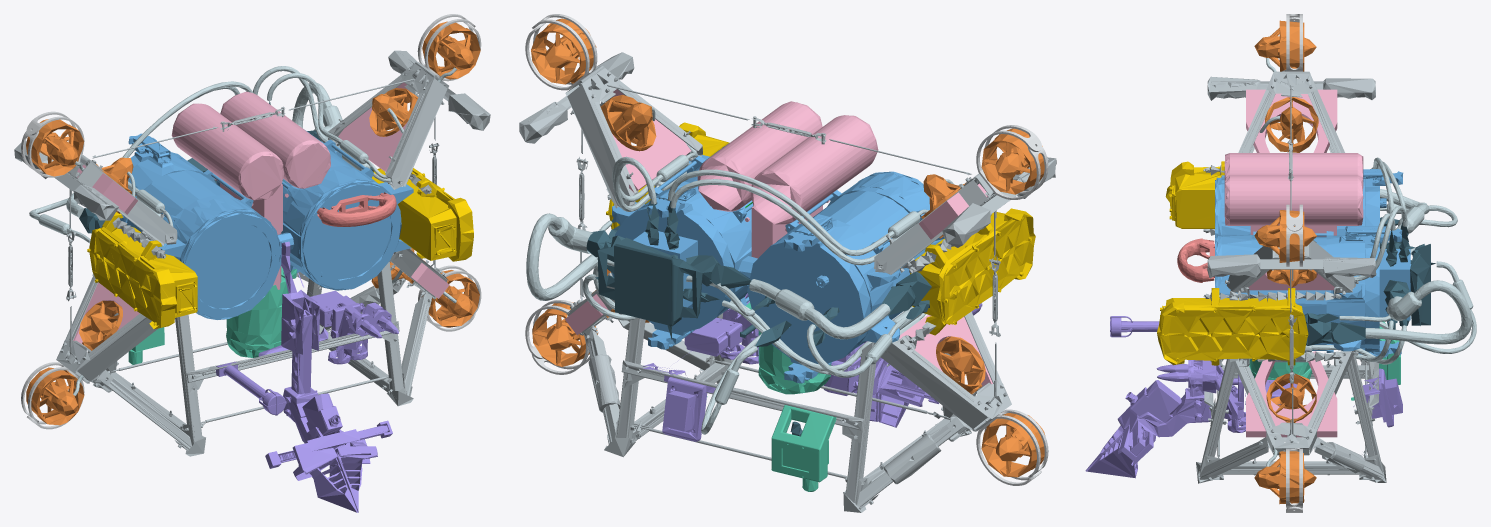
Rendered from talos-cad.glb.
3 views of the same model, side by side, from view 1: azimuth 30°, elevation 25°; view 2: azimuth 150°, elevation 25°; view 3: azimuth 270°, elevation 25° (orthographic). The views are drawn at different scales.
Parts seen in each view (by area): view 1: frame, hull, foam, batteries, claw, cables, launcher, thruster_guards, dvl, thruster T200 Thruster_Taco-3, thruster MirroredT200 Thruster-1, thruster T200 Thruster-1 (+8 smaller); view 2: frame, hull, foam, cables, subconns, batteries, thruster_guards, launcher, acoustics, claw, thruster T200 Thruster-1, thruster T200 Thruster_Taco-3 (+6 smaller); view 3: frame, foam, batteries, hull, cables, claw, subconns, launcher, thruster_guards, thruster MirroredInner T200 Thruster-1, thruster Mirrored_T200 Thruster_Taco-1, thruster MirroredT200 Thruster-1 (+7 smaller).
Boxes of the visible parts, x1,y1,x2,y2 form: frame: [14, 50, 490, 456]; hull: [120, 130, 413, 319]; foam: [73, 82, 449, 344]; batteries: [87, 168, 473, 329]; claw: [258, 241, 392, 512]; cables: [29, 66, 456, 396]; launcher: [298, 273, 398, 364]; thruster_guards: [21, 14, 481, 429]; dvl: [226, 266, 296, 357]; thruster T200 Thruster_Taco-3: [26, 367, 84, 425]; thruster MirroredT200 Thruster-1: [26, 119, 83, 176]; thruster T200 Thruster-1: [422, 21, 480, 79]; frame: [519, 52, 1056, 512]; hull: [612, 143, 944, 383]; foam: [565, 89, 992, 386]; cables: [526, 107, 1005, 434]; subconns: [586, 200, 931, 436]; batteries: [606, 122, 1035, 335]; thruster_guards: [525, 14, 1048, 485]; launcher: [643, 293, 759, 441]; acoustics: [707, 396, 836, 491]; claw: [823, 341, 938, 427]; thruster T200 Thruster-1: [531, 18, 596, 84]; thruster T200 Thruster_Taco-3: [981, 413, 1045, 477]; frame: [1196, 71, 1386, 483]; foam: [1224, 89, 1363, 437]; batteries: [1157, 161, 1308, 365]; hull: [1215, 169, 1411, 357]; cables: [1259, 58, 1476, 466]; claw: [1085, 363, 1211, 478]; subconns: [1304, 217, 1435, 345]; launcher: [1156, 360, 1402, 432]; thruster_guards: [1282, 14, 1302, 512]; thruster MirroredInner T200 Thruster-1: [1265, 97, 1318, 152]; thruster Mirrored_T200 Thruster_Taco-1: [1254, 451, 1316, 504]; thruster MirroredT200 Thruster-1: [1254, 20, 1316, 71].
Bounding box in the file's own units: 0.925 × 0.7194 × 0.7114.
